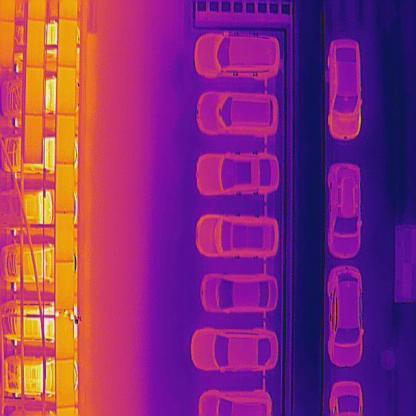Hotspot: (55, 310, 75, 360)
Normal: (24, 66, 45, 116), (57, 67, 78, 116), (22, 116, 43, 165), (54, 212, 74, 262), (56, 162, 75, 213), (58, 18, 78, 66), (54, 360, 74, 407), (27, 20, 46, 68), (56, 114, 74, 164), (56, 262, 74, 310), (0, 20, 14, 68)
